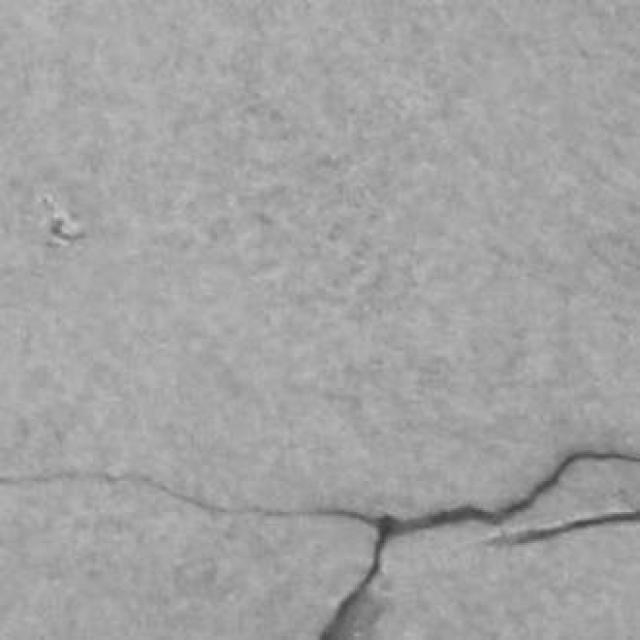crack: (0, 450, 639, 639), (320, 450, 639, 639), (0, 470, 376, 527), (320, 516, 395, 639), (487, 511, 639, 546)
